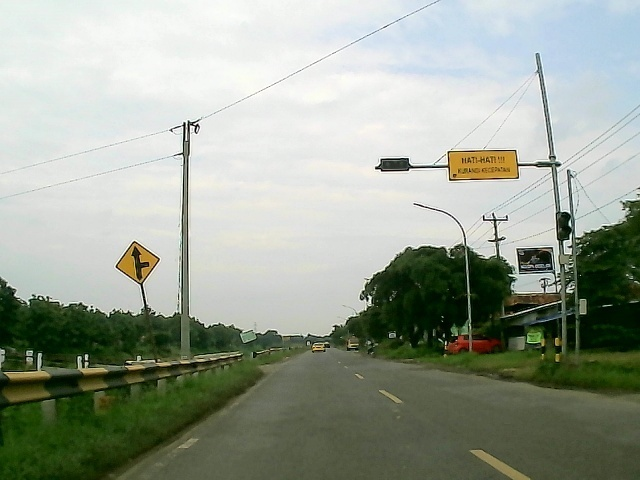Simpang kanan dengan prioritas: (116, 239, 162, 286)
